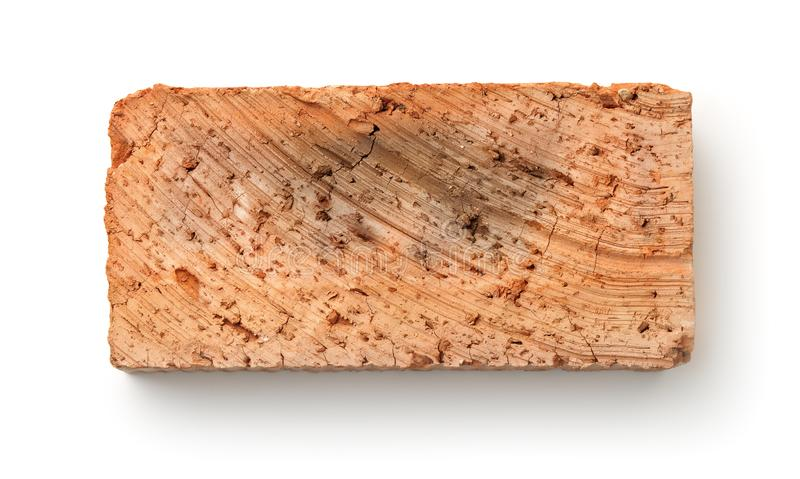brick: (111, 91, 694, 368)
